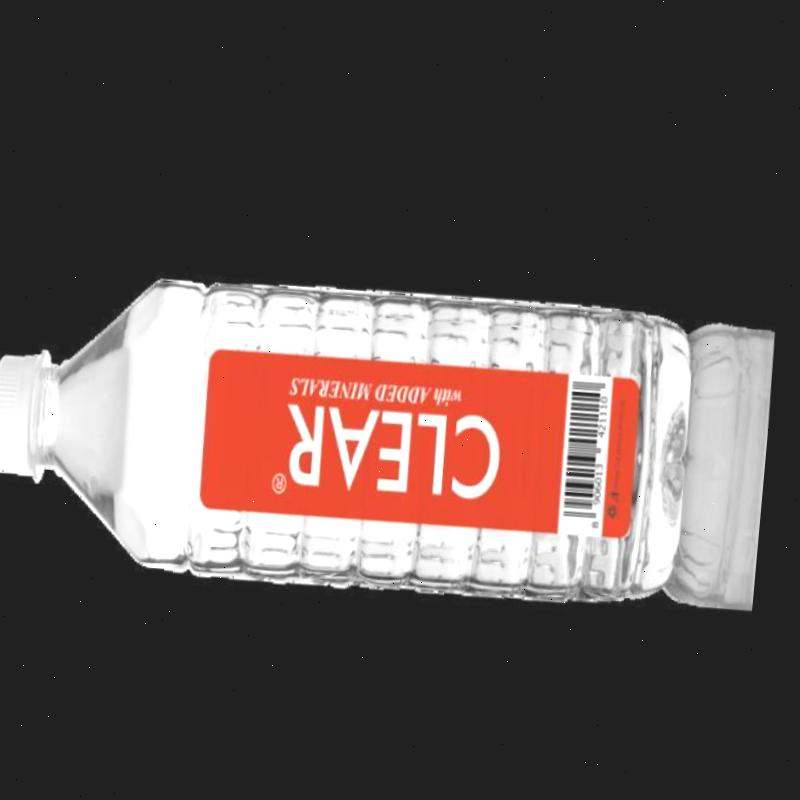botella: (0, 242, 716, 624)
